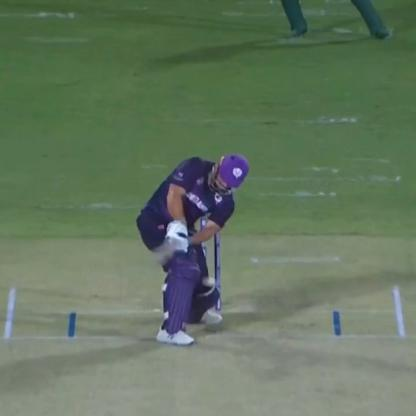ball: (200, 270, 216, 287)
bat: (142, 234, 198, 267)
pitch: (0, 283, 416, 416)
